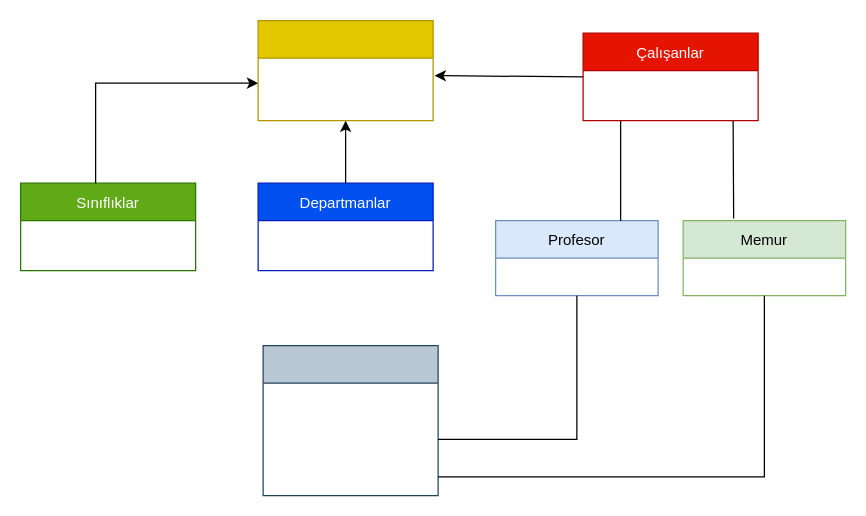
Some shapes in this 866 by 516 pixel diagram are drawn without their labels. The shapes that lost their labels are listed below. From the top down, each one's centre as x and y in pixels, then its label:
At (345,70): "Üniversite".
At (350,420): "Çalışma Ofisi".
